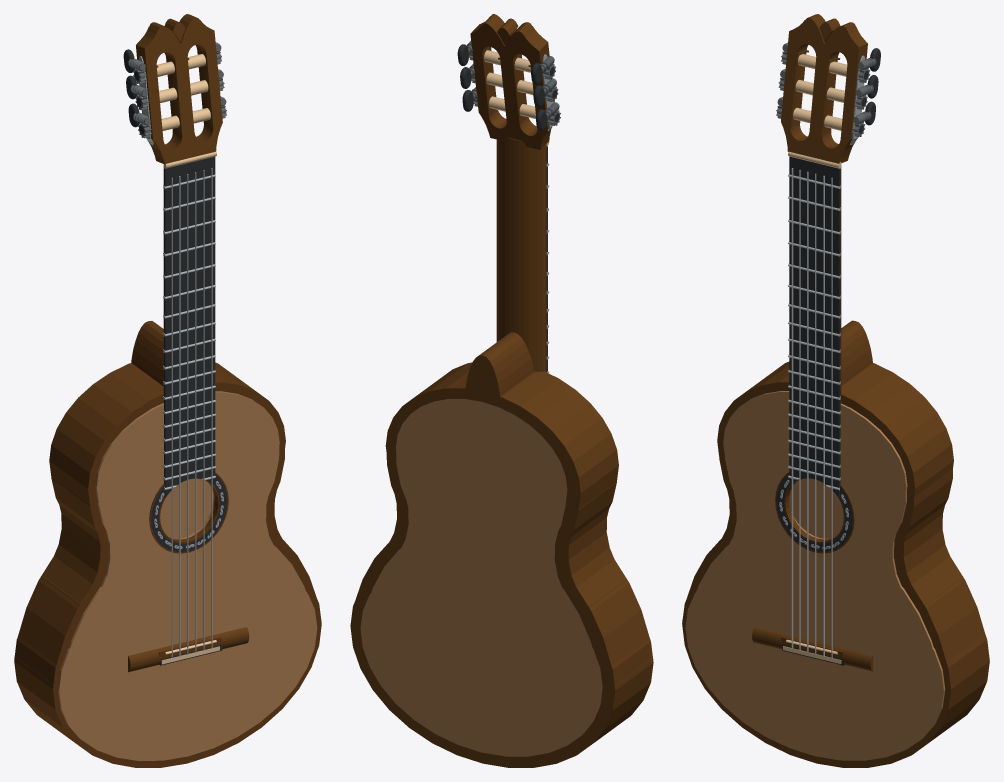
File: tinker.obj
3 views of the same model, side by side, from view 1: azimuth 30°, elevation 25°; view 2: azimuth 150°, elevation 25°; view 3: azimuth 330°, elevation 25° (orthographic).
Parts seen in each view (by area): view 1: group_0_11107152, group_0_6306067, group_0_2829873, group_0_10988977, group_0_14860437, group_0_6383466; view 2: group_0_11107152, group_0_6306067, group_0_2829873, group_0_14860437, group_0_6383466; view 3: group_0_11107152, group_0_6306067, group_0_2829873, group_0_10988977, group_0_14860437, group_0_6383466.
Part boxes in pixels (left/top/right/bottom): group_0_11107152: left=57, top=391, right=317, bottom=760; group_0_6306067: left=14, top=14, right=321, bottom=767; group_0_2829873: left=123, top=49, right=227, bottom=665; group_0_10988977: left=138, top=56, right=223, bottom=658; group_0_14860437: left=157, top=54, right=219, bottom=664; group_0_6383466: left=128, top=42, right=226, bottom=138; group_0_11107152: left=360, top=399, right=602, bottom=756; group_0_6306067: left=350, top=14, right=653, bottom=767; group_0_2829873: left=457, top=44, right=559, bottom=371; group_0_14860437: left=484, top=50, right=549, bottom=146; group_0_6383466: left=467, top=41, right=560, bottom=125; group_0_11107152: left=685, top=391, right=945, bottom=760; group_0_6306067: left=682, top=14, right=989, bottom=767; group_0_2829873: left=776, top=48, right=880, bottom=665; group_0_10988977: left=779, top=55, right=865, bottom=658; group_0_14860437: left=783, top=54, right=847, bottom=663; group_0_6383466: left=776, top=42, right=876, bottom=137.
Bounding box in the file's own units: 51 × 133 × 14.4.
